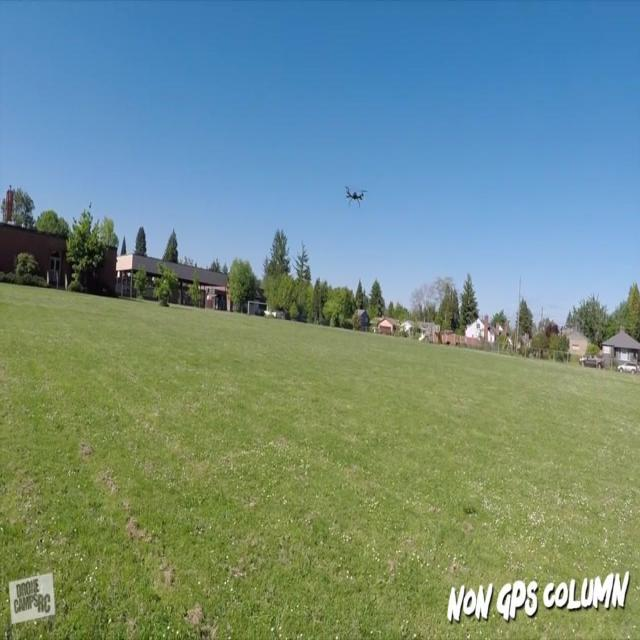drone: (343, 182, 368, 208)
